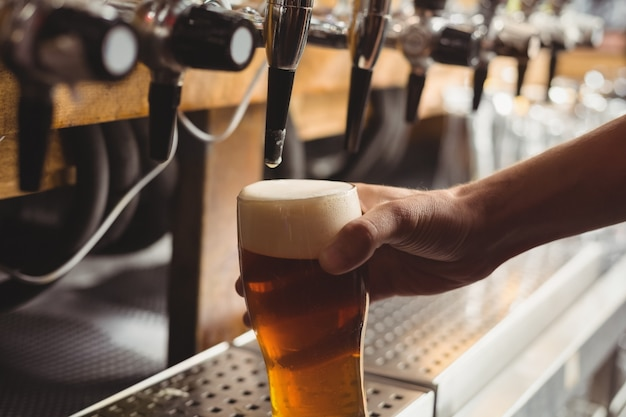alcohol: (236, 177, 371, 417)
